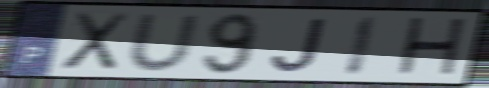9: (199, 11, 263, 77)
H: (393, 15, 469, 80)
I: (342, 14, 381, 79)
J: (269, 16, 330, 74)
U: (126, 13, 203, 73)
X: (57, 10, 133, 72)
